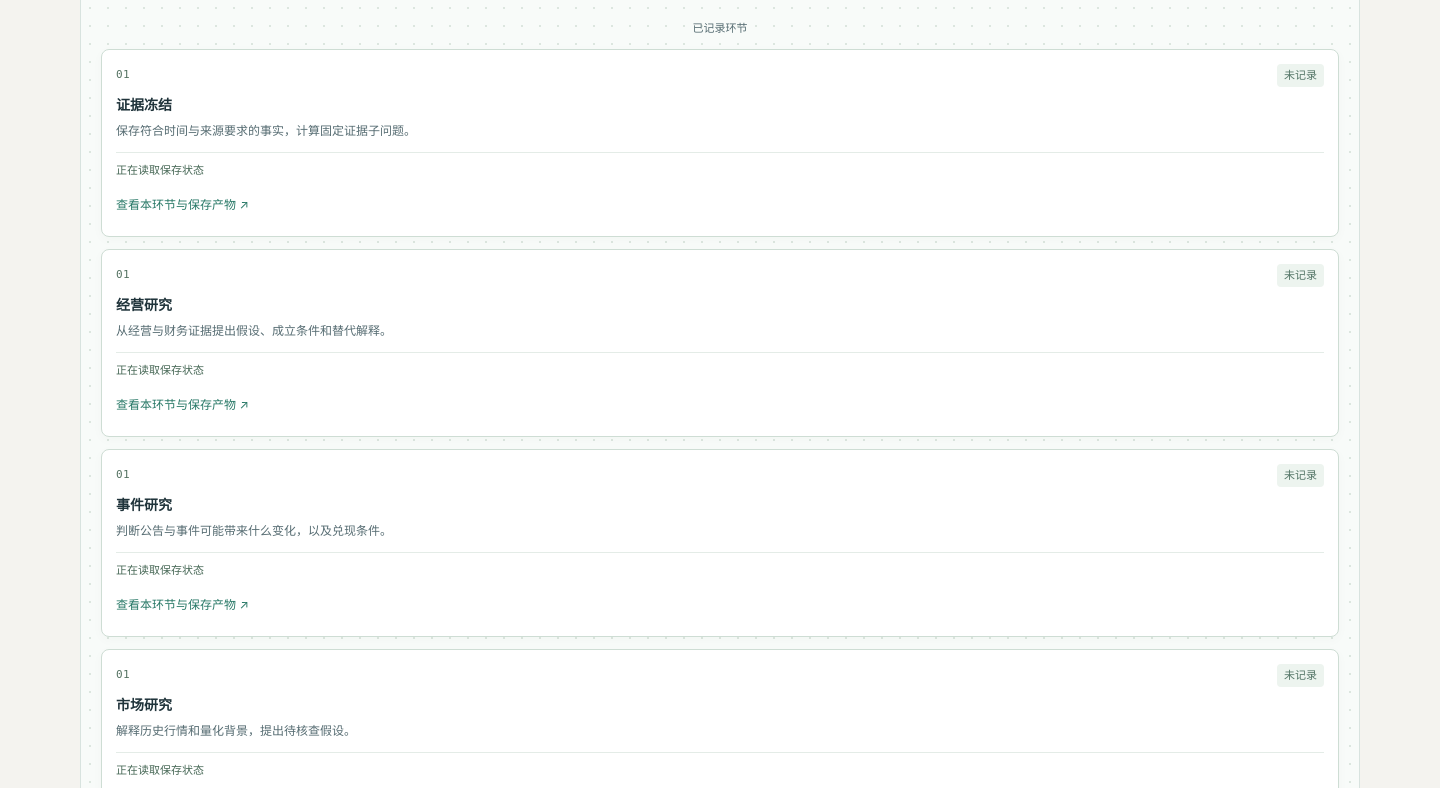
Test case: in-progress role review navigation › does not claim a final report exists for a stopped unpublished run
This screenshot has width=1440, height=788.
(page scrolled)
Click the button with aria-label "查看经营研究环节与保存产物": [178, 405] box x1=116 y1=388 x2=1324 y2=422
(page scrolled)
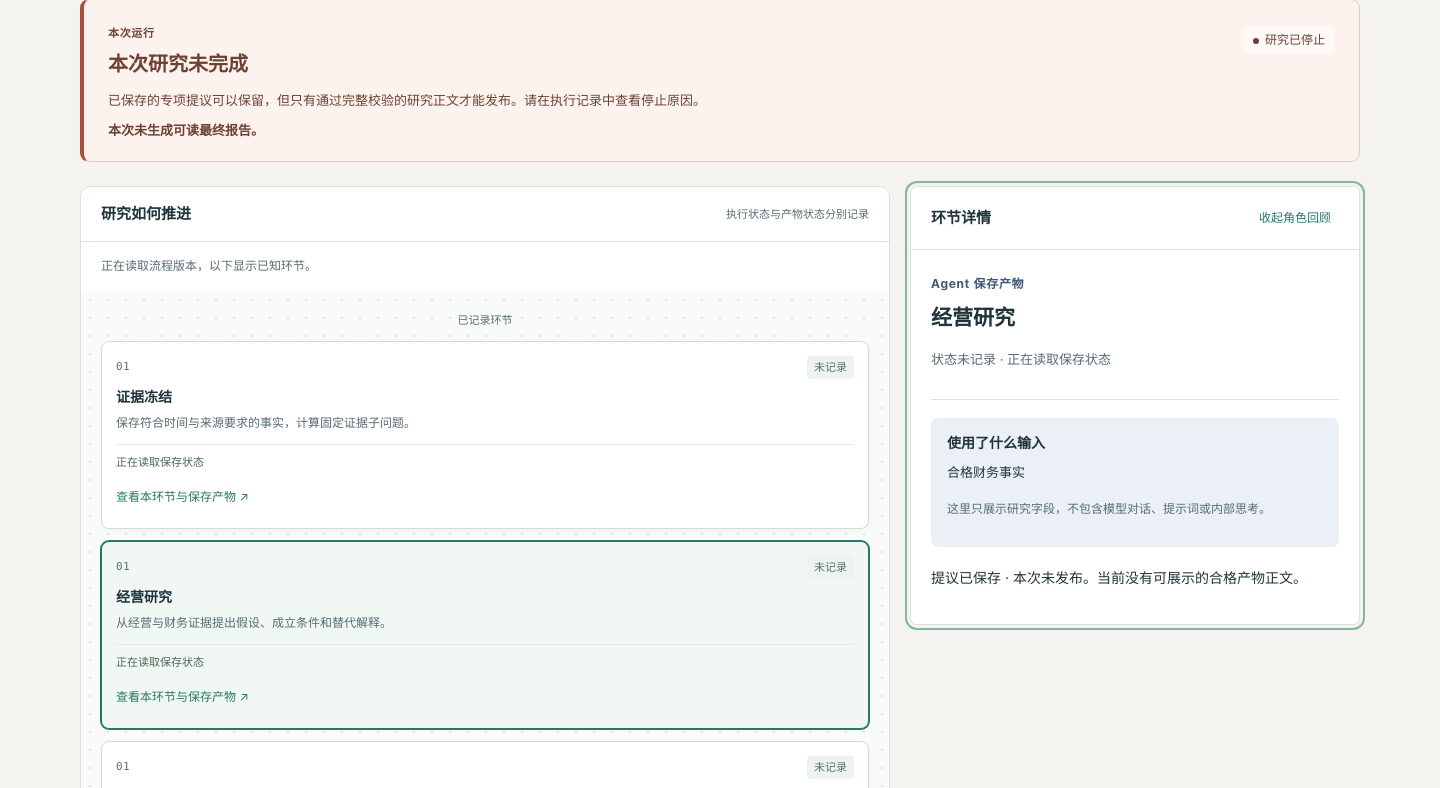
Expected: the element named "所选环节详情" does not show "最终报告仍可", x1=910 y1=186 x2=1360 y2=625
Expected: the element named "所选环节详情" shows "提议已保存 · 本次未发布", x1=931 y1=569 x2=1083 y2=586
